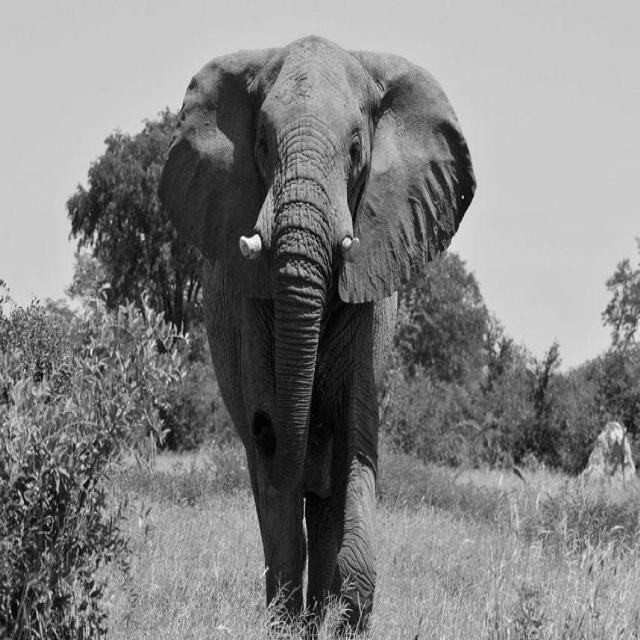Elephant: (156, 33, 476, 638)
